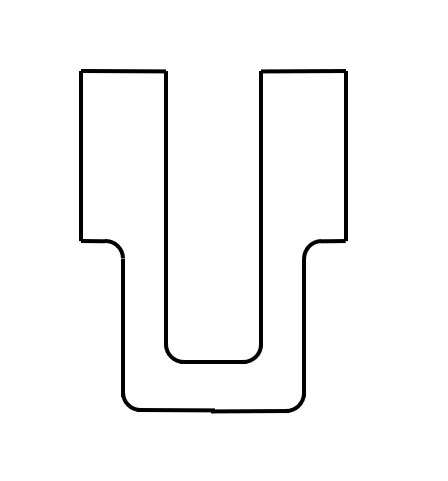nrfp: (109, 44, 321, 418)
